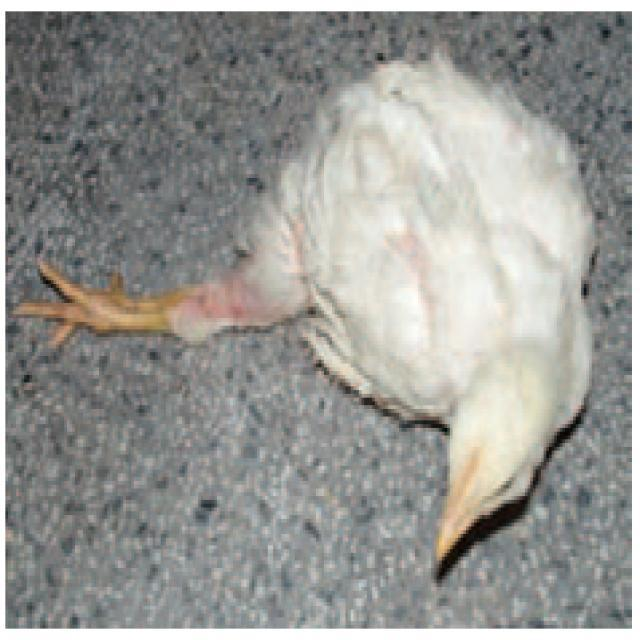AbNormal: (12, 50, 591, 567)
